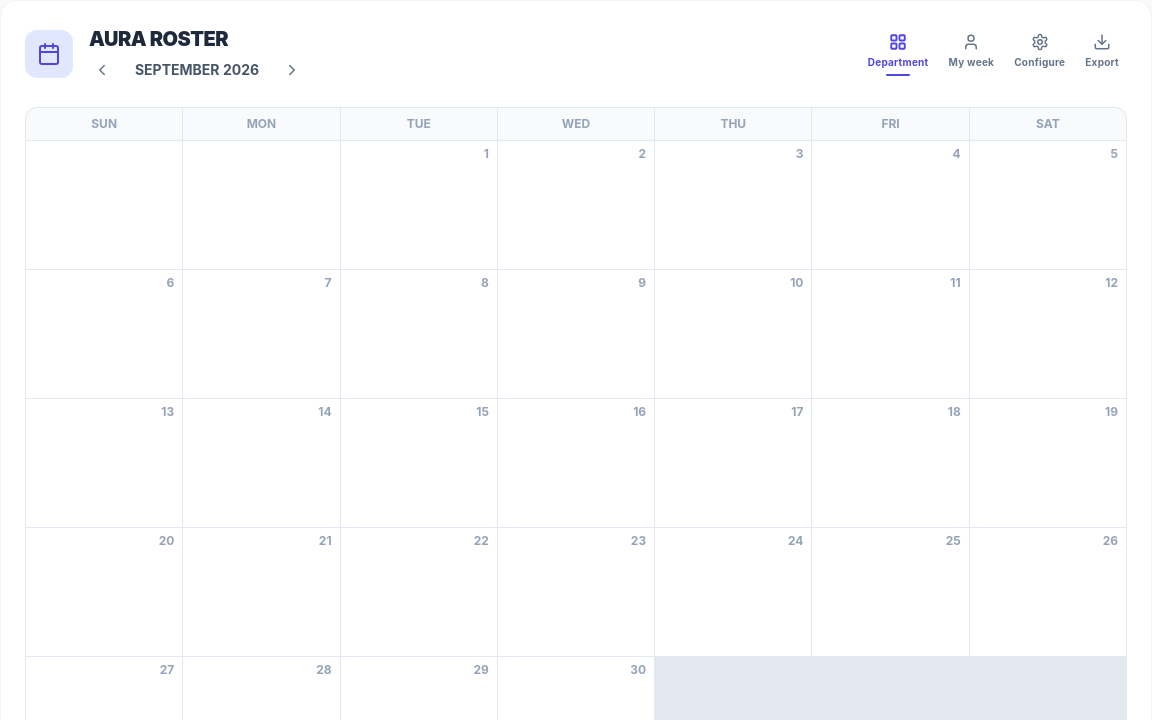
Test: live mode: the same wizard, with the team as its staff › shows the team as the staff rows, in member order
This screenshot has width=1152, height=720.
Step 1. Click the button "Configure" → (1040, 54), box [1006, 26, 1073, 82]
(page scrolled)
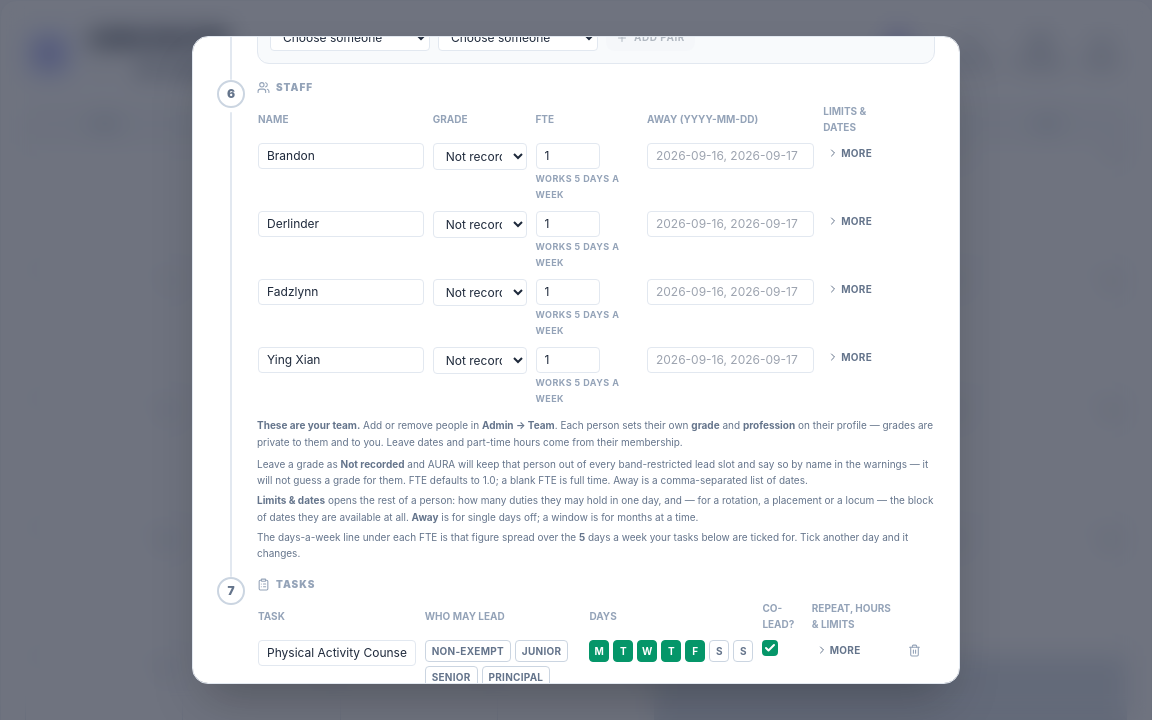
Check: the field showing "Brandon" is shown, box [258, 143, 424, 169]
Check: the field showing "Derlinder" is shown, box [258, 211, 424, 237]
Check: the field showing "Fadzlynn" is shown, box [258, 279, 424, 305]
